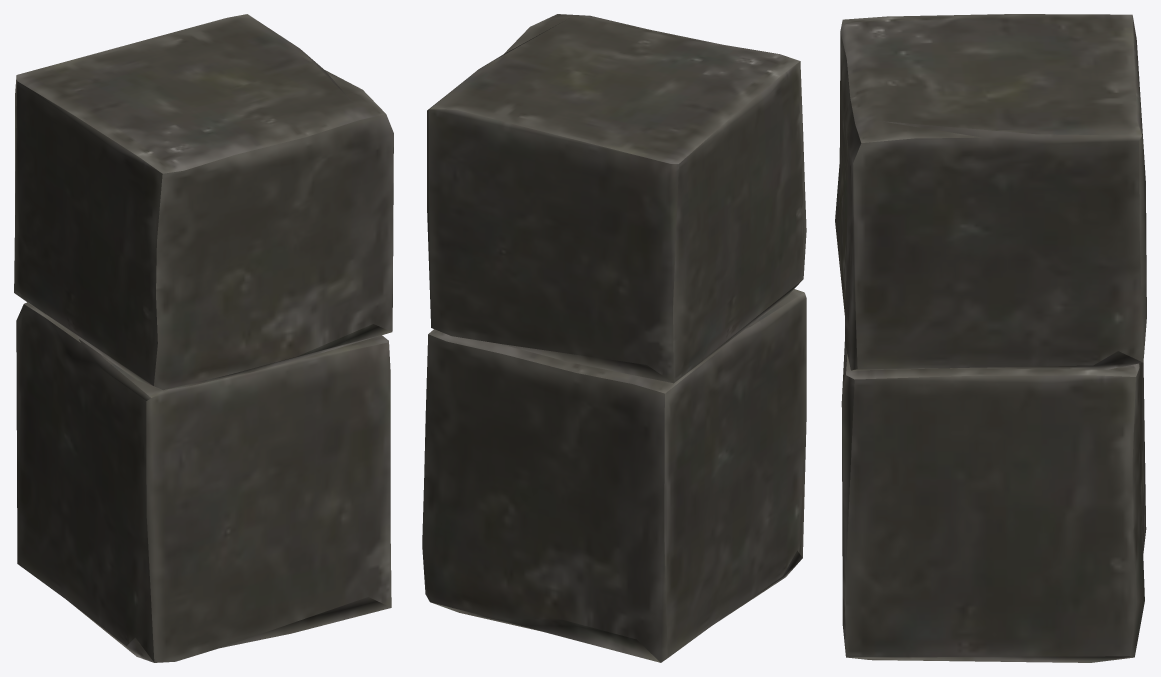
3 views of the same model, side by side, from view 1: azimuth 30°, elevation 25°; view 2: azimuth 150°, elevation 25°; view 3: azimuth 270°, elevation 25° (orthographic). The views are drawn at different scales.
Parts seen in each view (by area): view 1: SM_Greathall_WallCap_4m_01_LOD0; view 2: SM_Greathall_WallCap_4m_01_LOD0; view 3: SM_Greathall_WallCap_4m_01_LOD0.
Boxes of the visible parts, x1=… form: SM_Greathall_WallCap_4m_01_LOD0: x1=14, y1=14, x2=393, y2=662; SM_Greathall_WallCap_4m_01_LOD0: x1=422, y1=14, x2=806, y2=662; SM_Greathall_WallCap_4m_01_LOD0: x1=835, y1=14, x2=1146, y2=662.
Size of the model in its own units: 2.07 by 3.92 by 2.08.
1 material, 1 textured.
